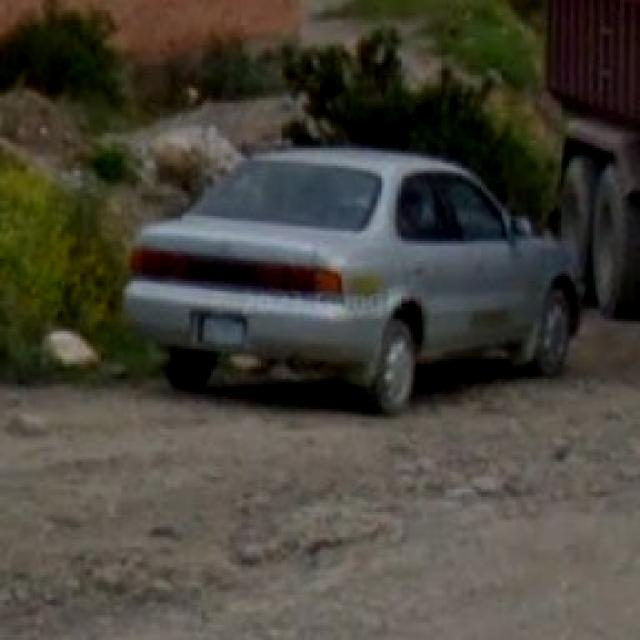car: (101, 122, 606, 434)
